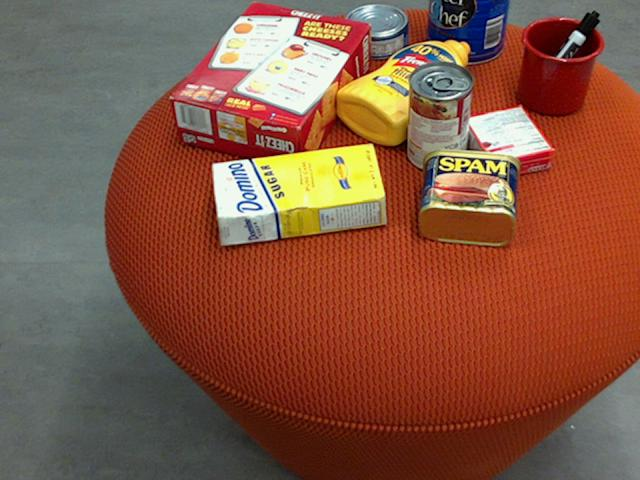cracker_box: (167, 1, 371, 169)
gelatin_box: (463, 106, 555, 179)
large_marker: (525, 8, 600, 101)
master_chef_can: (426, 0, 510, 62)
mug: (518, 16, 604, 114)
mustard_bottle: (335, 39, 470, 144)
potted_meat_can: (417, 147, 519, 245)
sugar_box: (210, 142, 387, 246)
tomato_soup_can: (407, 59, 471, 171)
tuna_fish_can: (343, 3, 408, 56)
